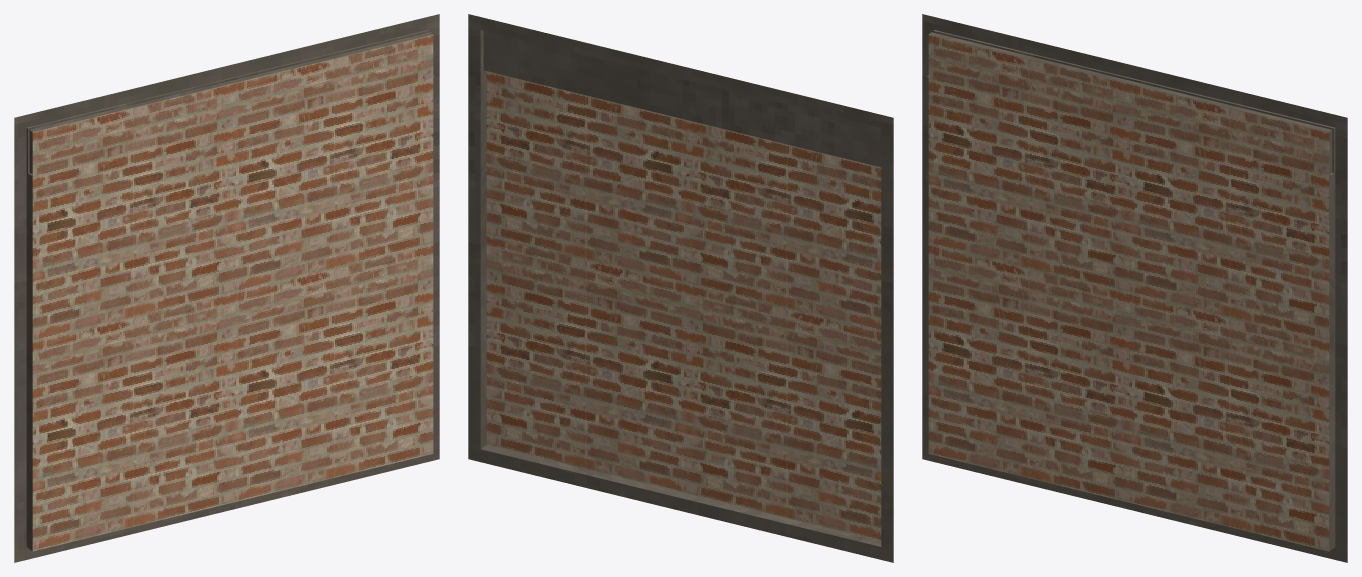
File: Factory_Wall_4x4m.glb
3 views of the same model, side by side, from view 1: azimuth 30°, elevation 25°; view 2: azimuth 150°, elevation 25°; view 3: azimuth 330°, elevation 25° (orthographic).
Visible parts, largest first — view 1: Factory_Wall_4x4; view 2: Factory_Wall_4x4; view 3: Factory_Wall_4x4.
Part boxes in pixels (left/top/right/bottom): Factory_Wall_4x4: left=14, top=14, right=439, bottom=562; Factory_Wall_4x4: left=468, top=14, right=893, bottom=562; Factory_Wall_4x4: left=922, top=14, right=1347, bottom=562.
Bounding box in the file's own units: 4 × 4 × 0.1.
Materials: 2 (2 with a texture image).
